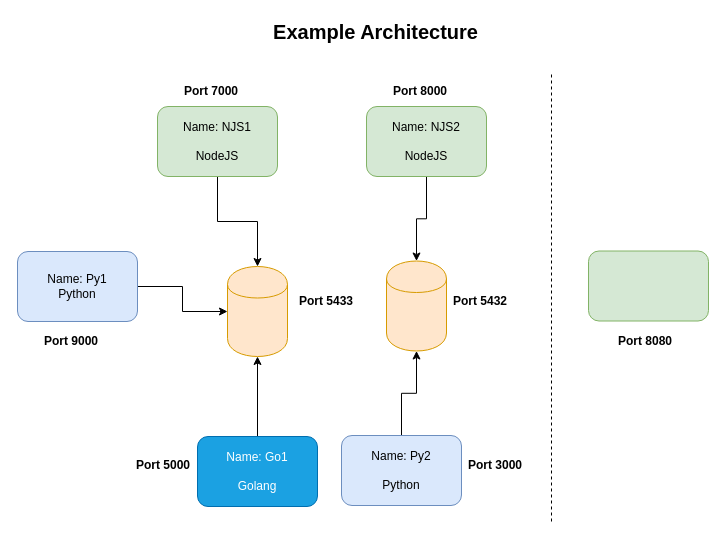
This 726x540 diagram has some shape labels left out. The shapes that lost their labels are listed below. From the top down, each one's centre as x and y in pixels, then its label:
the point at 416,305: Db2 psql
the point at 648,285: Name: Web Web Frontend
the point at 257,311: Db1 psql
